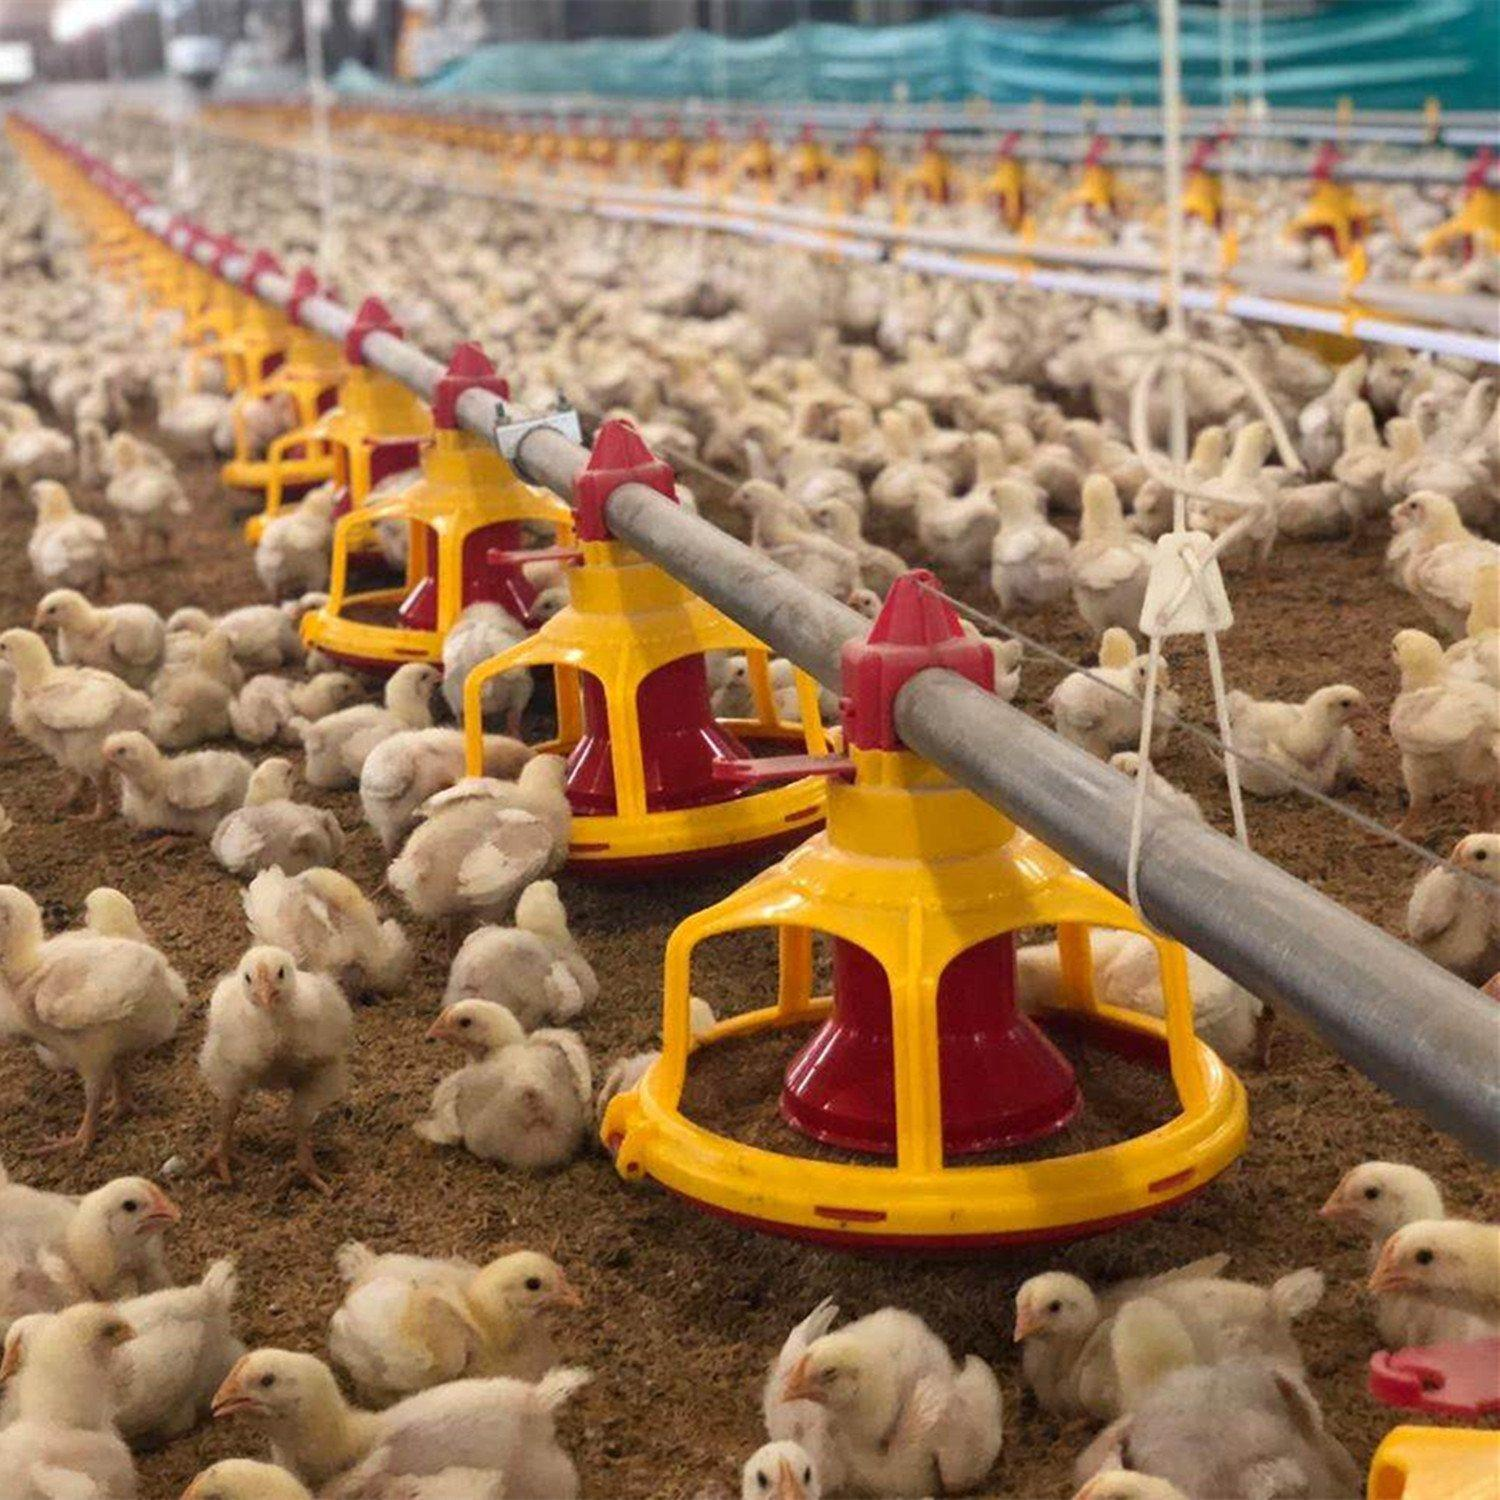chicken: (213, 1350, 602, 1500), (760, 1297, 1011, 1500), (1018, 1251, 1317, 1415), (0, 886, 190, 1132), (328, 1236, 587, 1389), (203, 951, 360, 1188), (393, 743, 577, 927), (409, 997, 591, 1163), (0, 620, 146, 804), (0, 1169, 185, 1295), (240, 860, 409, 989), (445, 880, 603, 1000), (1390, 624, 1500, 795), (1220, 677, 1370, 797), (302, 654, 440, 782), (1386, 479, 1500, 630), (96, 729, 258, 831), (220, 757, 350, 870), (1052, 654, 1183, 757), (30, 587, 163, 673)
